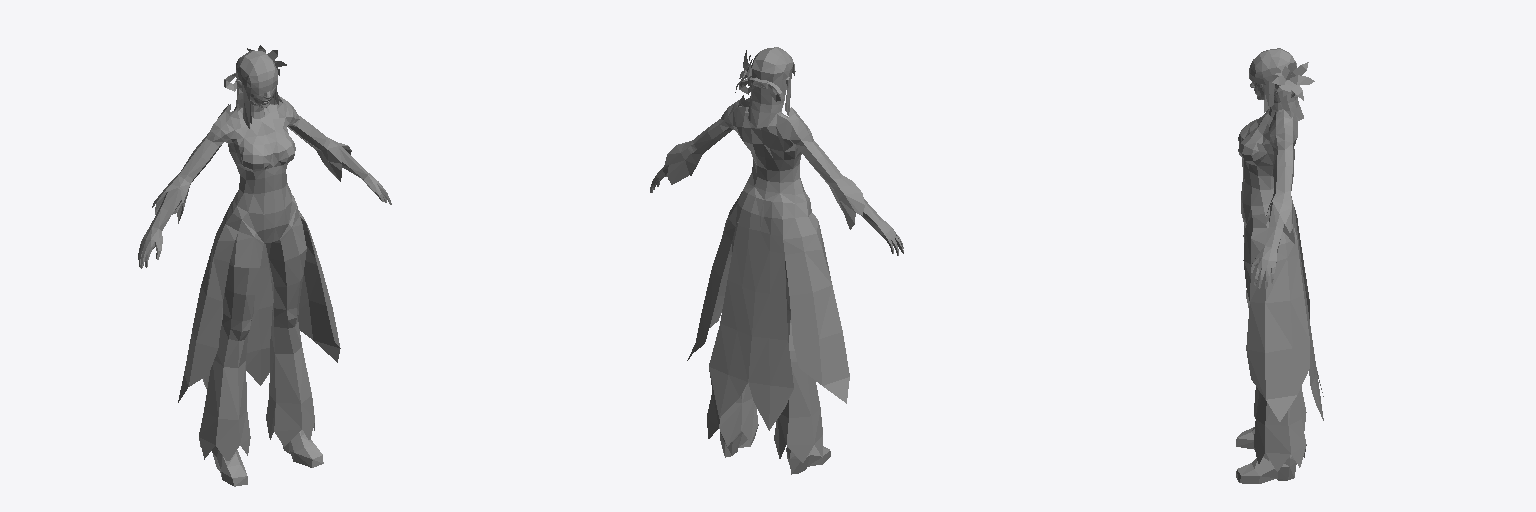
File: beautiful_girl.obj
3 views of the same model, side by side, from view 1: azimuth 30°, elevation 25°; view 2: azimuth 150°, elevation 25°; view 3: azimuth 270°, elevation 25° (orthographic).
Visible parts, largest first — view 1: 2164f988.obj, 2165f1a0.obj, 2166bbb8.obj, 216663c0.obj; view 2: 2165f1a0.obj, 2164f988.obj, 2166bbb8.obj, 216663c0.obj; view 3: 2165f1a0.obj, 2164f988.obj, 2166bbb8.obj, 216663c0.obj.
Boxes of the visible parts, x1=… form: 2164f988.obj: x1=138, y1=101, x2=391, y2=367; 2165f1a0.obj: x1=152, y1=95, x2=351, y2=460; 2166bbb8.obj: x1=224, y1=45, x2=286, y2=128; 216663c0.obj: x1=212, y1=430, x2=323, y2=486; 2165f1a0.obj: x1=664, y1=95, x2=864, y2=462; 2164f988.obj: x1=650, y1=106, x2=903, y2=361; 2166bbb8.obj: x1=735, y1=47, x2=795, y2=127; 216663c0.obj: x1=720, y1=431, x2=830, y2=474; 2165f1a0.obj: x1=1246, y1=109, x2=1323, y2=471; 2164f988.obj: x1=1238, y1=95, x2=1296, y2=300; 2166bbb8.obj: x1=1249, y1=48, x2=1314, y2=120; 216663c0.obj: x1=1236, y1=427, x2=1296, y2=483.
Bounding box in the file's own units: 20.4 × 31.9 × 6.18.